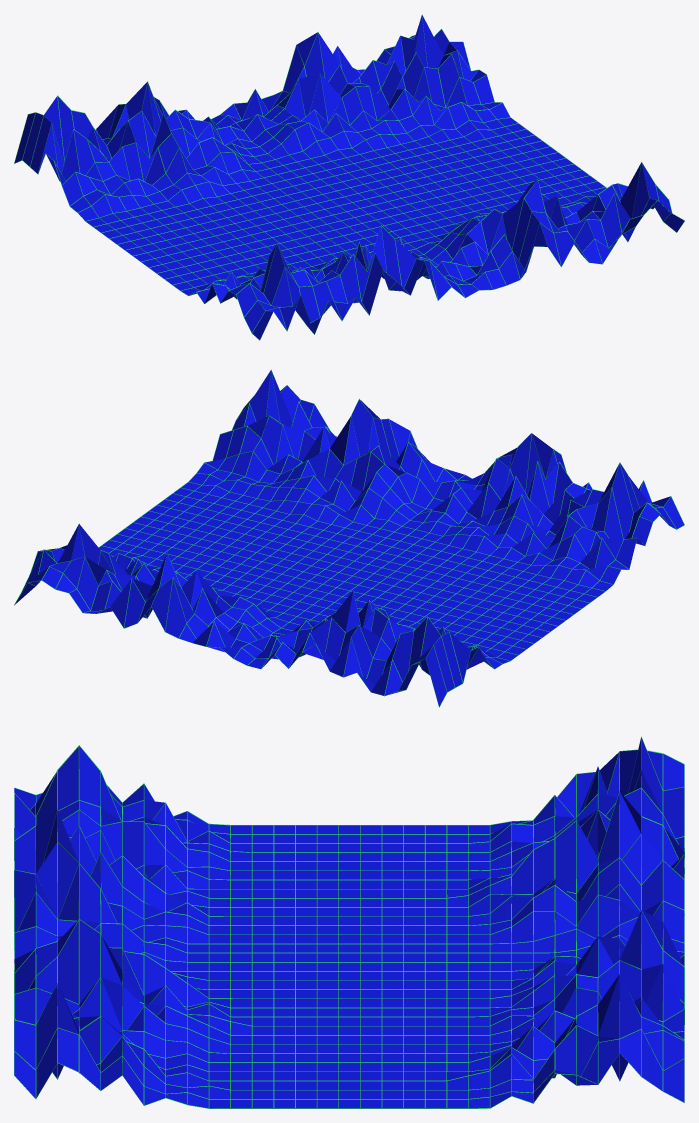
The model's file is 3dmountains.fbx.
3 views of the same model, one above another, from view 1: azimuth 30°, elevation 25°; view 2: azimuth 150°, elevation 25°; view 3: azimuth 270°, elevation 25° (orthographic). The views are drawn at different scales.
Visible parts, largest first — view 1: VaporwaveMountains; view 2: VaporwaveMountains; view 3: VaporwaveMountains.
Boxes of the visible parts, x1,y1,x2,y2 form: VaporwaveMountains: (14,14,684,340); VaporwaveMountains: (14,369,684,707); VaporwaveMountains: (14,736,684,1108).
Bounding box in the file's own units: 1602 × 285 × 1602.
